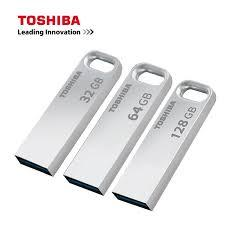Flash-drive: (15, 39, 222, 219)
